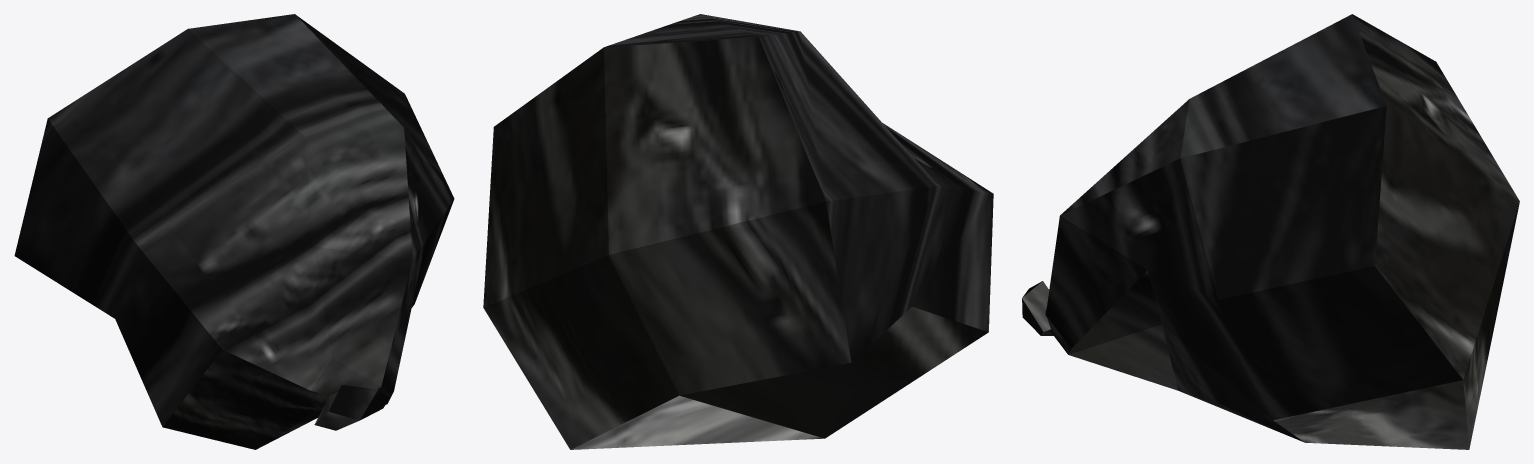
File: TrashBag.fbx
The picture shows the model from 3 angles, left to right: view 1: azimuth 30°, elevation 25°; view 2: azimuth 150°, elevation 25°; view 3: azimuth 270°, elevation 25°; orthographic projection. The views are drawn at different scales.
Parts seen in each view (by area): view 1: bag_3; view 2: bag_3; view 3: bag_3.
Boxes of the visible parts, <box> form: bag_3: <box>14,14,454,449</box>; bag_3: <box>483,14,993,449</box>; bag_3: <box>1022,14,1519,449</box>.
Size of the model in its own units: 1.38 by 1.59 by 1.35.
